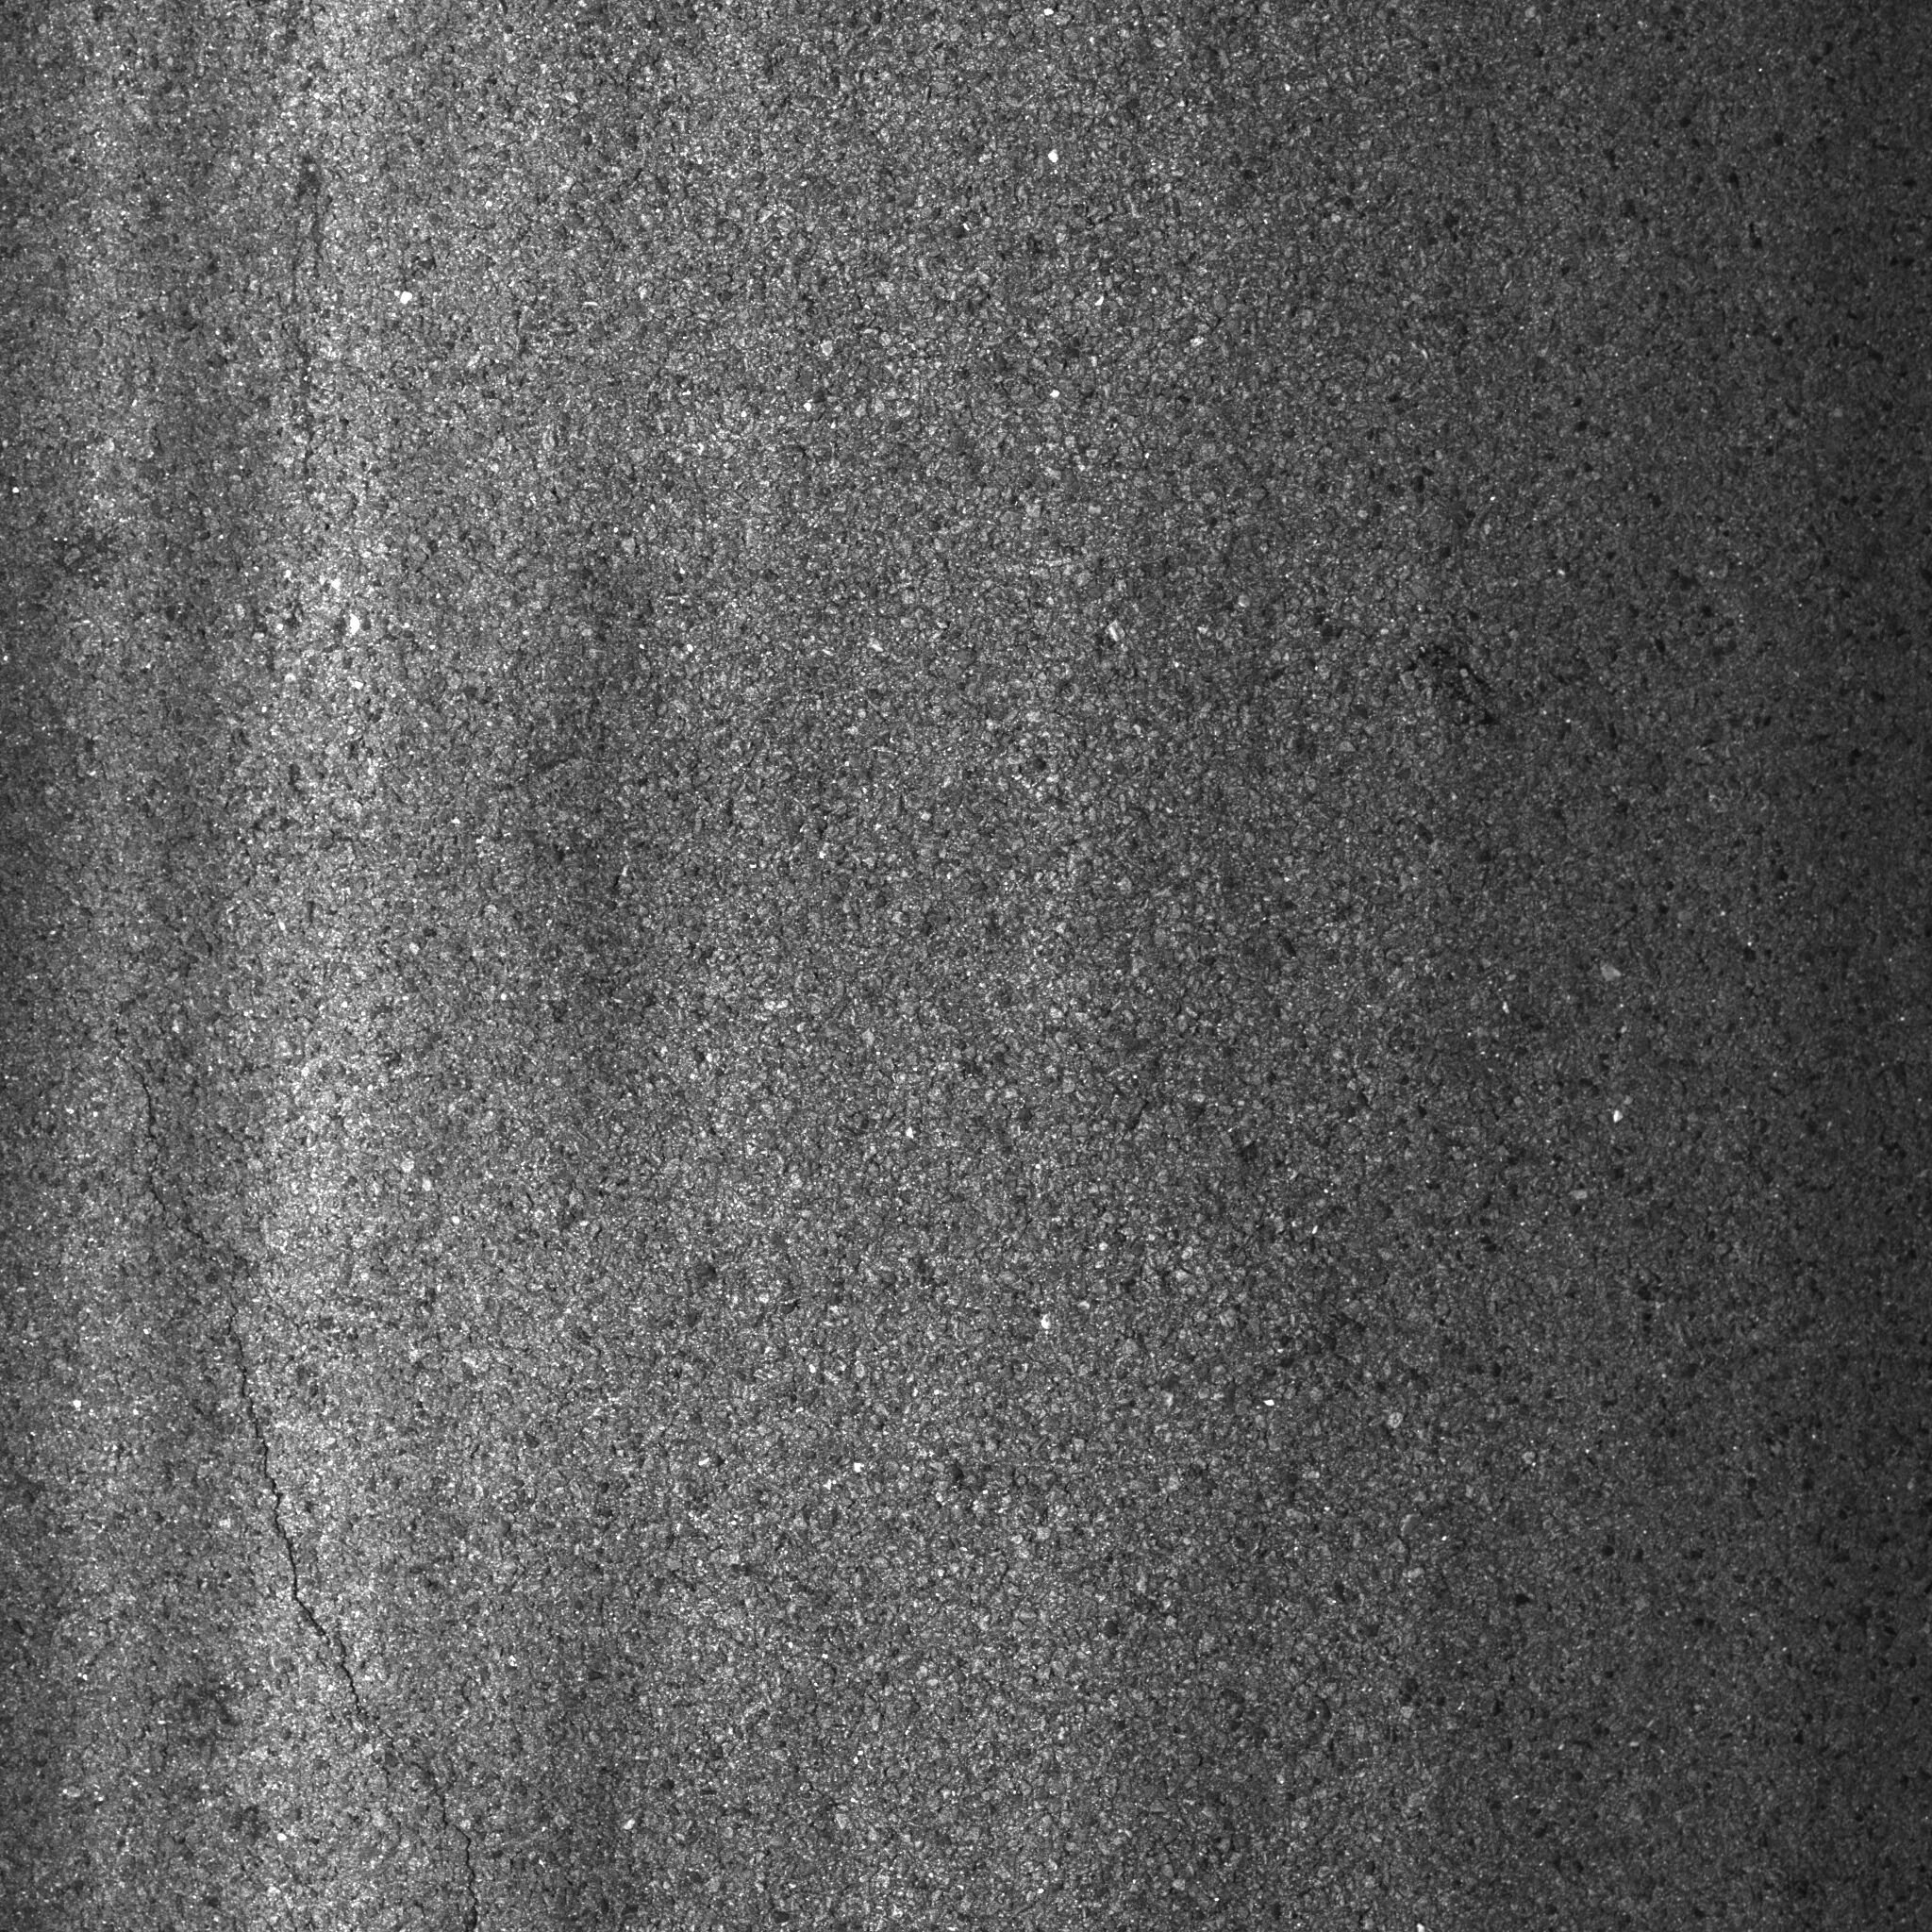longitudinal: (83, 955, 534, 1932), (258, 159, 372, 520)
